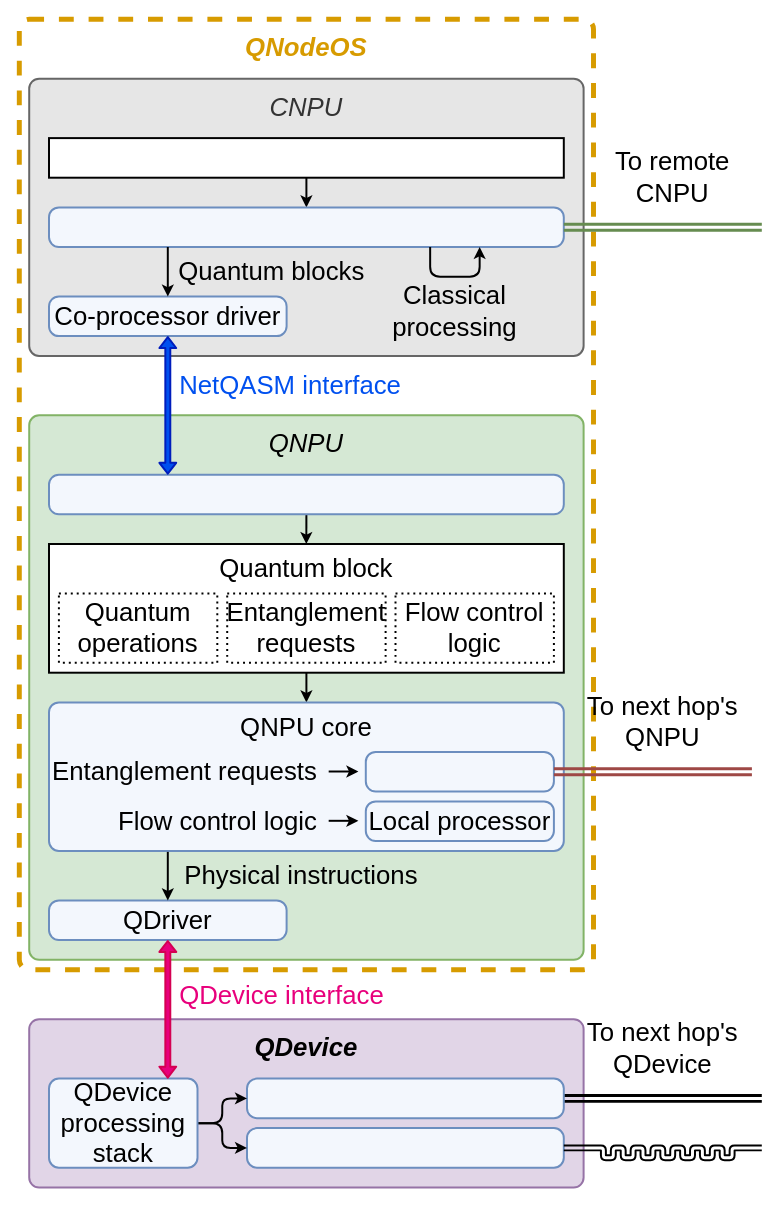
This 780x1206 diagram has some shape labels left out. The box of each missing label's shape, as (x1, y1, x2, y2) in pixels:
Classical channel interface: (246, 1077, 564, 1119)
CNPU communication handler: (48, 473, 564, 515)
CNPU runtime: (48, 206, 564, 248)
Network stack: (364, 750, 554, 792)
Quantum channel interface: (246, 1127, 564, 1168)
User program: (48, 137, 564, 178)
